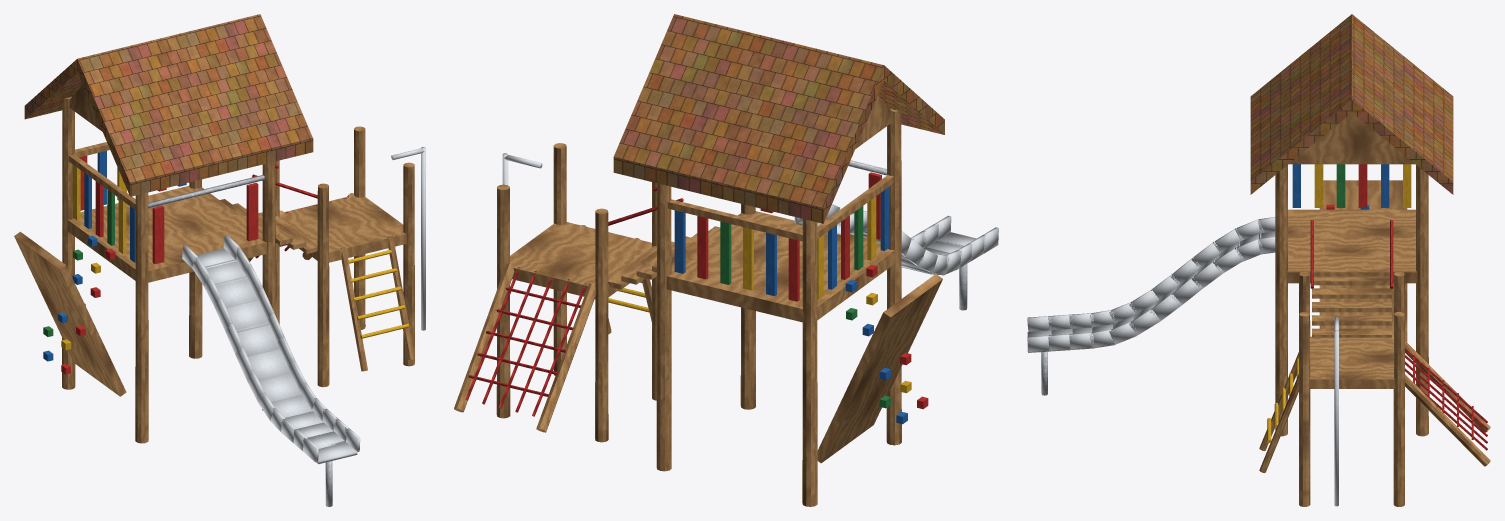
File: playground_tower.glb
3 views of the same model, side by side, from view 1: azimuth 30°, elevation 25°; view 2: azimuth 150°, elevation 25°; view 3: azimuth 270°, elevation 25° (orthographic). The views are drawn at different scales.
Parts seen in each view (by area): view 1: Tower_robinia, Tower_shingle, Tower_stainless, Tower_paint_red, Tower_paint_yellow, Tower_paint_blue, Tower_galvanized, Tower_paint_green; view 2: Tower_robinia, Tower_shingle, Tower_stainless, Tower_rope_red, Tower_paint_blue, Tower_paint_red, Tower_paint_yellow, Tower_paint_green, Tower_galvanized; view 3: Tower_robinia, Tower_shingle, Tower_stainless, Tower_rope_red, Tower_paint_yellow, Tower_paint_blue.
Part boxes in pixels (<box>): Tower_robinia: <box>14,85,414,443</box>; Tower_shingle: <box>24,14,313,196</box>; Tower_stainless: <box>182,147,425,464</box>; Tower_paint_red: <box>61,155,258,374</box>; Tower_paint_yellow: <box>61,164,408,350</box>; Tower_paint_blue: <box>43,151,186,361</box>; Tower_galvanized: <box>148,175,332,506</box>; Tower_paint_green: <box>43,190,114,336</box>; Tower_robinia: <box>454,96,942,506</box>; Tower_shingle: <box>613,14,944,223</box>; Tower_stainless: <box>502,153,998,275</box>; Tower_rope_red: <box>465,187,683,416</box>; Tower_paint_blue: <box>674,186,907,424</box>; Tower_paint_red: <box>697,172,928,409</box>; Tower_paint_yellow: <box>608,196,911,393</box>; Tower_paint_green: <box>720,206,890,408</box>; Tower_galvanized: <box>848,160,967,310</box>; Tower_robinia: <box>1259,113,1490,506</box>; Tower_shingle: <box>1250,14,1453,194</box>; Tower_stainless: <box>1027,217,1338,506</box>; Tower_rope_red: <box>1310,220,1487,450</box>; Tower_paint_yellow: <box>1267,164,1411,442</box>; Tower_paint_blue: <box>1292,164,1389,209</box>.
Size of the model in its own units: 5.42 by 5.01 by 6.06.
Materials: 9 (9 with a texture image).
